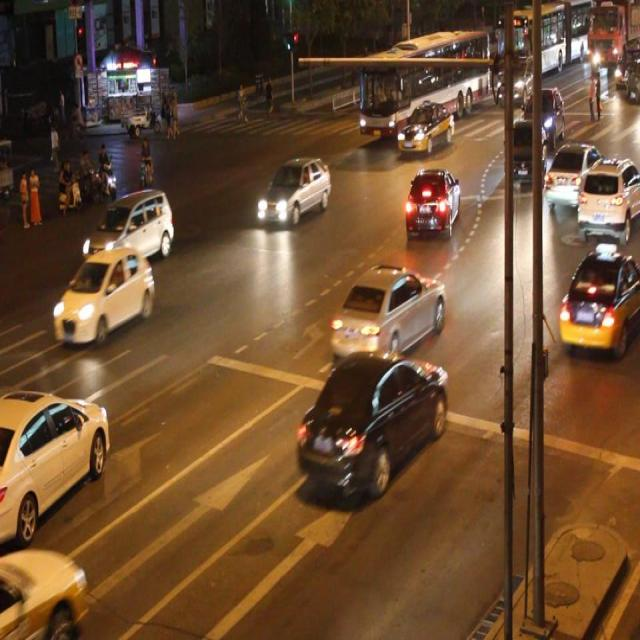car: (294, 348, 445, 489), (1, 389, 110, 540), (330, 262, 445, 357), (53, 244, 155, 344), (556, 250, 640, 353), (1, 544, 87, 640), (83, 188, 173, 266), (576, 159, 640, 238), (256, 156, 329, 224), (403, 167, 458, 241), (544, 141, 603, 206), (504, 120, 546, 191), (396, 103, 454, 153)
van: (360, 32, 488, 129)
